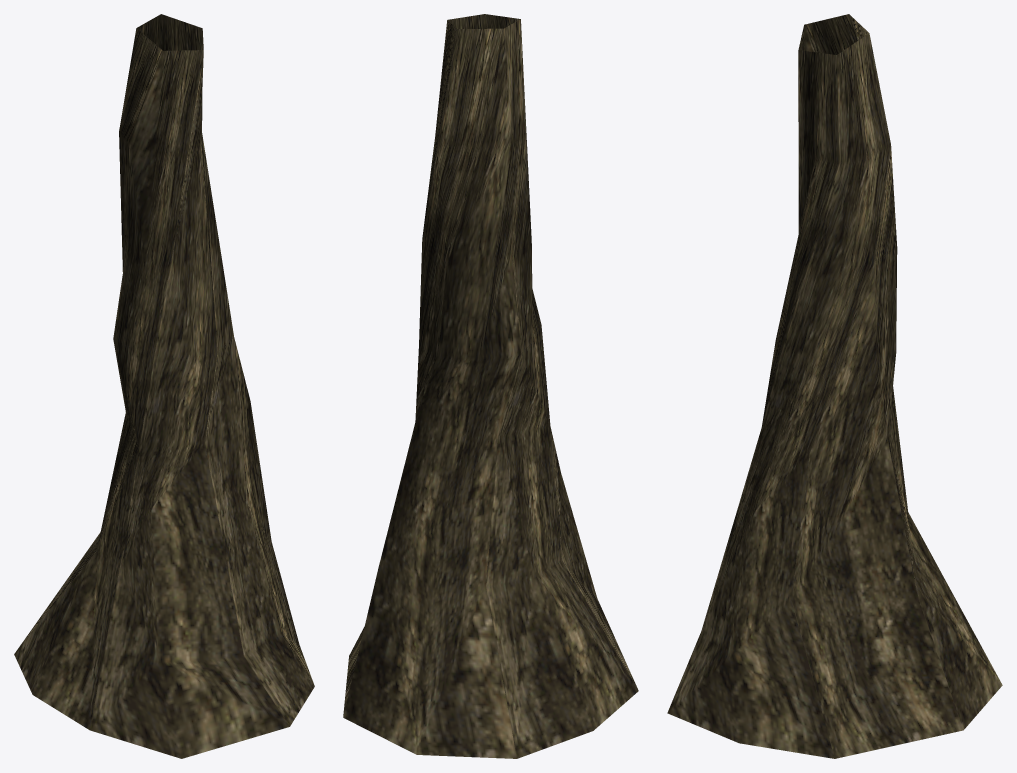
The picture shows the model from 3 angles, left to right: view 1: azimuth 30°, elevation 25°; view 2: azimuth 150°, elevation 25°; view 3: azimuth 270°, elevation 25°; orthographic projection. The views are drawn at different scales.
Parts seen in each view (by area): view 1: SMDImport; view 2: SMDImport; view 3: SMDImport.
Part boxes in pixels (<box>): SMDImport: <box>14,14,314,758</box>; SMDImport: <box>343,14,638,758</box>; SMDImport: <box>667,14,1002,758</box>.
Size of the model in its own units: 299 by 755 by 336.
